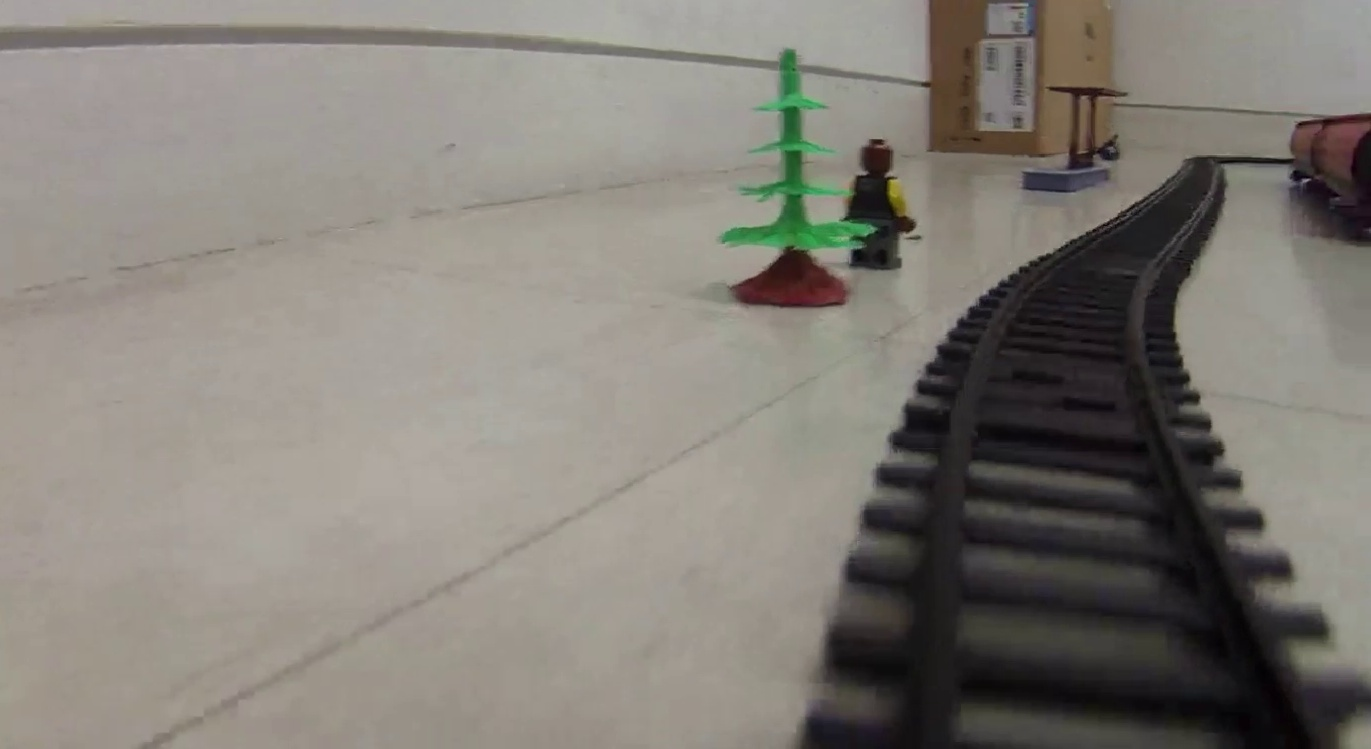people: (848, 138, 914, 268)
tree: (715, 46, 874, 311)
